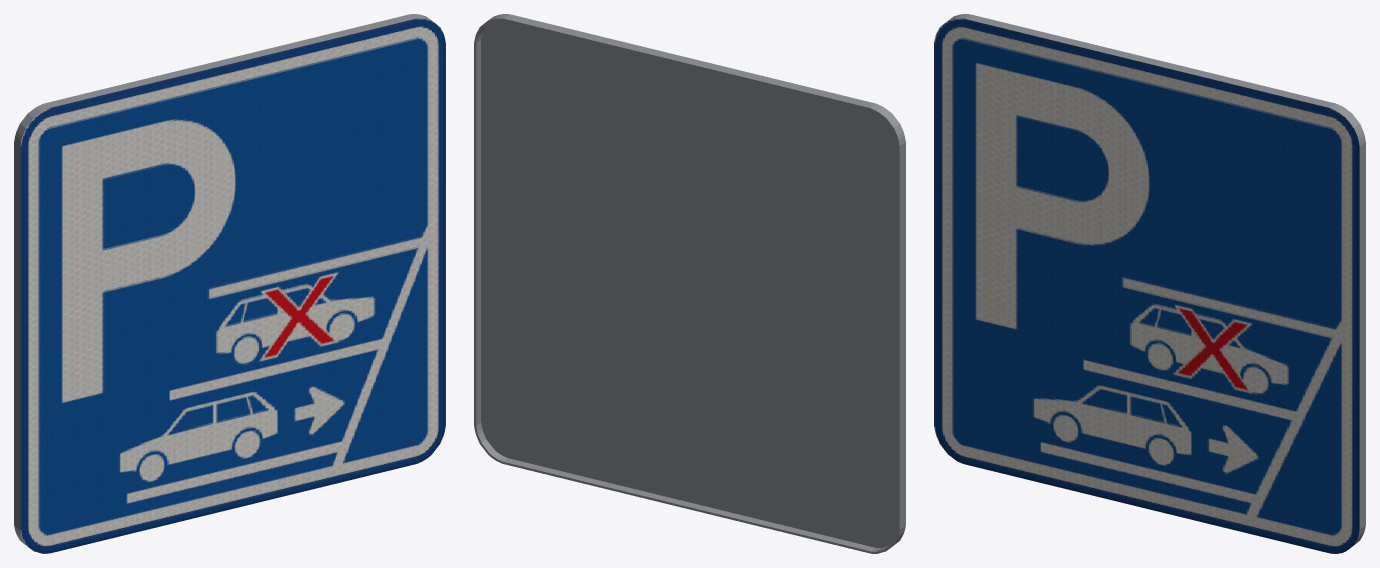
The picture shows the model from 3 angles, left to right: view 1: azimuth 30°, elevation 25°; view 2: azimuth 150°, elevation 25°; view 3: azimuth 330°, elevation 25°; orthographic projection.
Parts seen in each view (by area): view 1: cat_541db8ce0d0ea465; view 2: cat_541db8ce0d0ea465; view 3: cat_541db8ce0d0ea465.
Boxes of the visible parts, <box> form: cat_541db8ce0d0ea465: <box>14,14,445,553</box>; cat_541db8ce0d0ea465: <box>474,14,905,553</box>; cat_541db8ce0d0ea465: <box>934,14,1365,553</box>.
Size of the model in its own units: 0.6 by 0.015 by 0.6.
2 materials, 1 textured.
